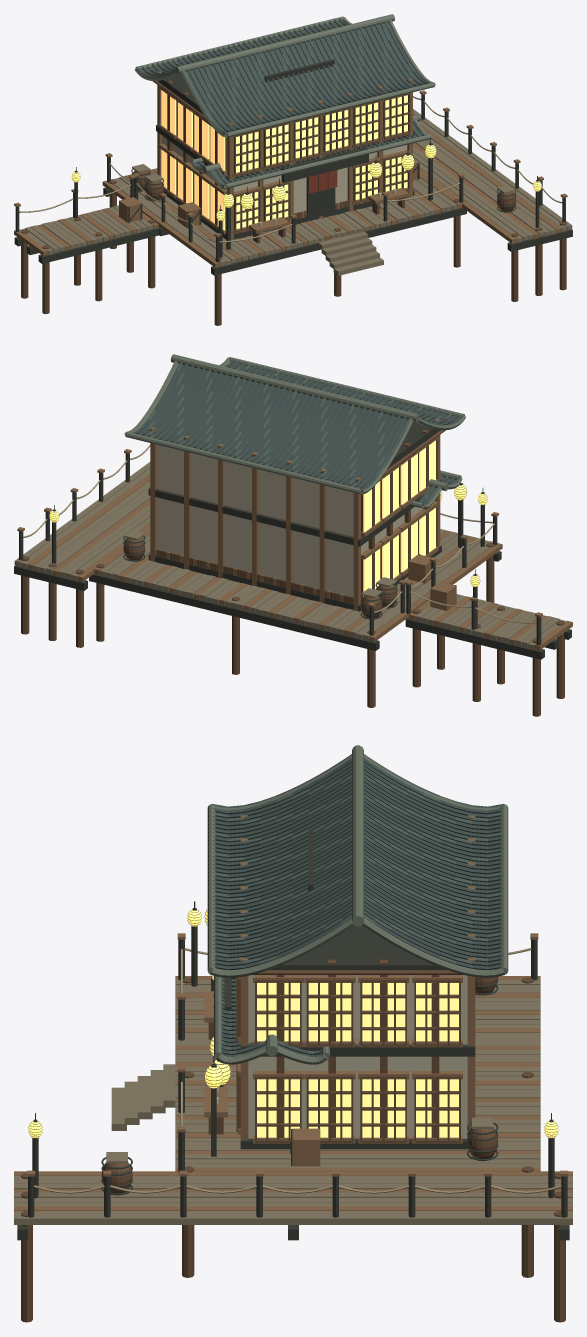
Rendered from harbor.glb.
The picture shows the model from 3 angles, top to bottom: view 1: azimuth 30°, elevation 25°; view 2: azimuth 150°, elevation 25°; view 3: azimuth 270°, elevation 25°; orthographic projection. The views are drawn at different scales.
Parts seen in each view (by area): view 1: Teahouse_roof, Dock_plank, Teahouse_paper, Teahouse_wood, Dock_cedar, Dock_dark, Teahouse_rim, Dock_wood, Teahouse_cedar, Teahouse_dark, Teahouse_roof2, Teahouse_plaster (+3 smaller); view 2: Teahouse_roof, Teahouse_plaster, Dock_plank, Dock_cedar, Teahouse_cedar, Dock_wood, Dock_dark, Teahouse_rim, Teahouse_paper, Teahouse_dark, Teahouse_wood, Teahouse_roof2 (+2 smaller); view 3: Dock_plank, Teahouse_roof, Dock_cedar, Teahouse_wood, Teahouse_paper, Teahouse_roof2, Teahouse_rim, Teahouse_dark, Teahouse_cedar, Teahouse_plaster, Dock_wood, Dock_dark (+2 smaller).
Boxes of the visible parts, box(x1,y1,x2,y2) form: Teahouse_roof: box(136, 18, 428, 186); Dock_plank: box(20, 109, 572, 275); Teahouse_paper: box(161, 90, 407, 230); Teahouse_wood: box(152, 80, 410, 234); Dock_cedar: box(14, 90, 567, 267); Dock_dark: box(14, 94, 572, 275); Teahouse_rim: box(134, 14, 435, 189); Dock_wood: box(21, 170, 566, 325); Teahouse_cedar: box(157, 71, 436, 240); Teahouse_dark: box(156, 59, 432, 249); Teahouse_roof2: box(146, 21, 422, 182); Teahouse_plaster: box(161, 135, 407, 213); Teahouse_roof: box(132, 358, 464, 505); Teahouse_plaster: box(157, 444, 435, 596); Dock_plank: box(14, 462, 565, 649); Dock_cedar: box(17, 449, 572, 650); Teahouse_cedar: box(150, 419, 466, 611); Dock_wood: box(21, 537, 564, 716); Dock_dark: box(14, 453, 571, 659); Teahouse_rim: box(124, 354, 465, 509); Teahouse_paper: box(363, 440, 435, 596); Teahouse_dark: box(148, 421, 463, 611); Teahouse_wood: box(156, 429, 445, 604); Teahouse_roof2: box(148, 362, 454, 501); Dock_plank: box(14, 980, 572, 1224); Teahouse_roof: box(212, 758, 503, 1056); Dock_cedar: box(14, 909, 572, 1210); Teahouse_wood: box(236, 959, 463, 1142); Teahouse_paper: box(257, 983, 458, 1137); Teahouse_roof2: box(212, 754, 503, 1056); Teahouse_rim: box(207, 745, 508, 1064); Teahouse_dark: box(211, 830, 475, 1156); Teahouse_cedar: box(204, 815, 475, 1143); Teahouse_plaster: box(248, 975, 467, 1138); Dock_wood: box(21, 976, 565, 1322); Dock_dark: box(17, 908, 569, 1240).
Bounding box in the file's own units: 18.55 × 8.98 × 13.
